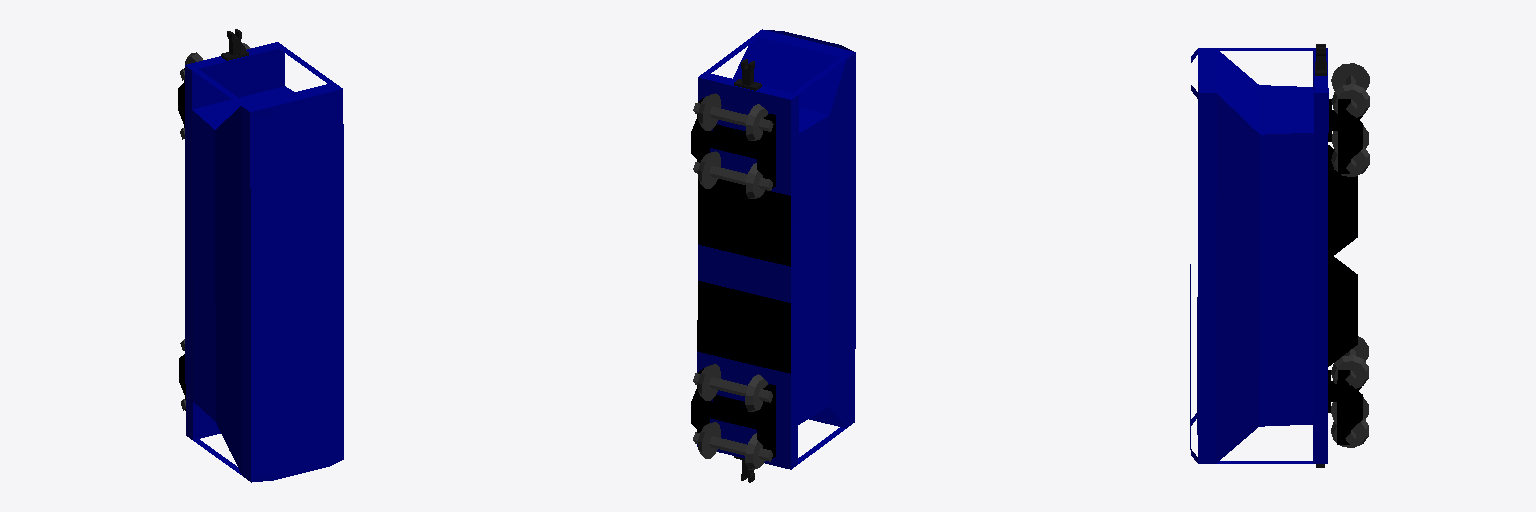
The model's file is vagon12_57.obj.
3 views of the same model, side by side, from view 1: azimuth 30°, elevation 25°; view 2: azimuth 150°, elevation 25°; view 3: azimuth 270°, elevation 25° (orthographic).
Visible parts, largest first — view 1: Shape_IndexedFaceSet.002_Shape_IndexedFaceSet.002; view 2: Shape_IndexedFaceSet.002_Shape_IndexedFaceSet.002, Shape_IndexedFaceSet_Shape_IndexedFaceSet.002, Shape_IndexedFaceSet.001_Shape_IndexedFaceSet.002, Shape_IndexedFaceSet.007_Shape_IndexedFaceSet.002, Shape_IndexedFaceSet.016_Shape_IndexedFaceSet.002, Shape_IndexedFaceSet.014_Shape_IndexedFaceSet.002, Shape_IndexedFaceSet.005_Shape_IndexedFaceSet.002, Shape_IndexedFaceSet.019_Shape_IndexedFaceSet.002, Shape_IndexedFaceSet.010_Shape_IndexedFaceSet.002, Shape_IndexedFaceSet.020_Shape_IndexedFaceSet.002, Shape_IndexedFaceSet.011_Shape_IndexedFaceSet.002, Shape_IndexedFaceSet.008_Shape_IndexedFaceSet.002 (+5 smaller); view 3: Shape_IndexedFaceSet.002_Shape_IndexedFaceSet.002, Shape_IndexedFaceSet_Shape_IndexedFaceSet.002, Shape_IndexedFaceSet.001_Shape_IndexedFaceSet.002, Shape_IndexedFaceSet.015_Shape_IndexedFaceSet.002, Shape_IndexedFaceSet.006_Shape_IndexedFaceSet.002, Shape_IndexedFaceSet.012_Shape_IndexedFaceSet.002, Shape_IndexedFaceSet.021_Shape_IndexedFaceSet.002, Shape_IndexedFaceSet.009_Shape_IndexedFaceSet.002.
Part boxes in pixels (bbox=[...]): Shape_IndexedFaceSet.002_Shape_IndexedFaceSet.002: bbox=[185, 42, 343, 482]; Shape_IndexedFaceSet.002_Shape_IndexedFaceSet.002: bbox=[697, 29, 855, 469]; Shape_IndexedFaceSet_Shape_IndexedFaceSet.002: bbox=[697, 281, 790, 373]; Shape_IndexedFaceSet.001_Shape_IndexedFaceSet.002: bbox=[698, 179, 790, 266]; Shape_IndexedFaceSet.007_Shape_IndexedFaceSet.002: bbox=[704, 124, 773, 162]; Shape_IndexedFaceSet.016_Shape_IndexedFaceSet.002: bbox=[704, 395, 773, 432]; Shape_IndexedFaceSet.014_Shape_IndexedFaceSet.002: bbox=[757, 384, 775, 458]; Shape_IndexedFaceSet.005_Shape_IndexedFaceSet.002: bbox=[757, 114, 775, 188]; Shape_IndexedFaceSet.019_Shape_IndexedFaceSet.002: bbox=[693, 373, 772, 402]; Shape_IndexedFaceSet.010_Shape_IndexedFaceSet.002: bbox=[693, 103, 773, 131]; Shape_IndexedFaceSet.020_Shape_IndexedFaceSet.002: bbox=[693, 432, 772, 461]; Shape_IndexedFaceSet.011_Shape_IndexedFaceSet.002: bbox=[693, 162, 772, 190]; Shape_IndexedFaceSet.008_Shape_IndexedFaceSet.002: bbox=[698, 151, 720, 188]; Shape_IndexedFaceSet.002_Shape_IndexedFaceSet.002: bbox=[1190, 48, 1328, 463]; Shape_IndexedFaceSet_Shape_IndexedFaceSet.002: bbox=[1328, 256, 1357, 366]; Shape_IndexedFaceSet.001_Shape_IndexedFaceSet.002: bbox=[1328, 145, 1357, 259]; Shape_IndexedFaceSet.015_Shape_IndexedFaceSet.002: bbox=[1337, 370, 1362, 444]; Shape_IndexedFaceSet.006_Shape_IndexedFaceSet.002: bbox=[1338, 99, 1362, 173]; Shape_IndexedFaceSet.012_Shape_IndexedFaceSet.002: bbox=[1331, 84, 1369, 117]; Shape_IndexedFaceSet.021_Shape_IndexedFaceSet.002: bbox=[1331, 355, 1368, 388]; Shape_IndexedFaceSet.009_Shape_IndexedFaceSet.002: bbox=[1331, 63, 1369, 90].
Bounding box in the file's own units: 4.93 × 19.21 × 7.47.